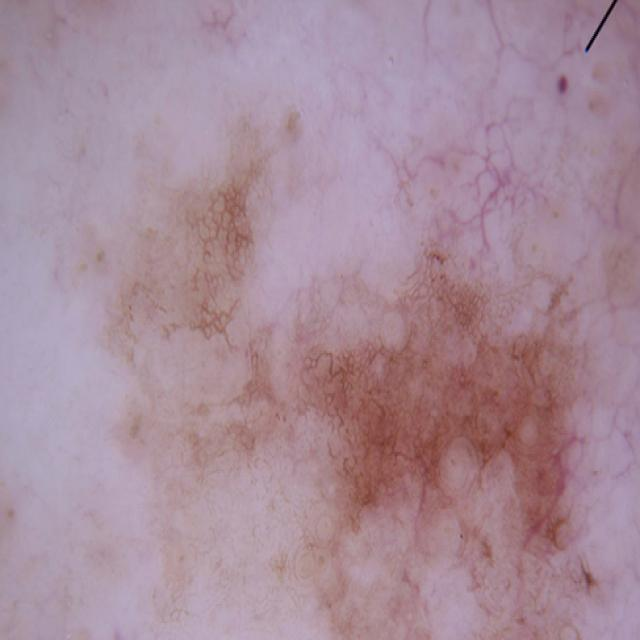Keratosis: (82, 131, 625, 640)
